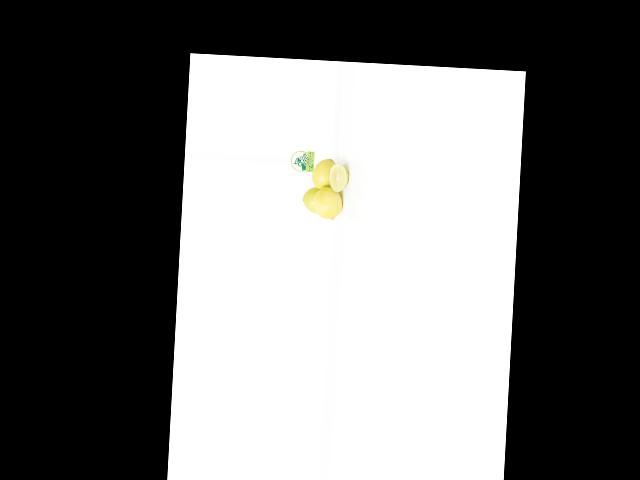lemon: (313, 186, 345, 223)
